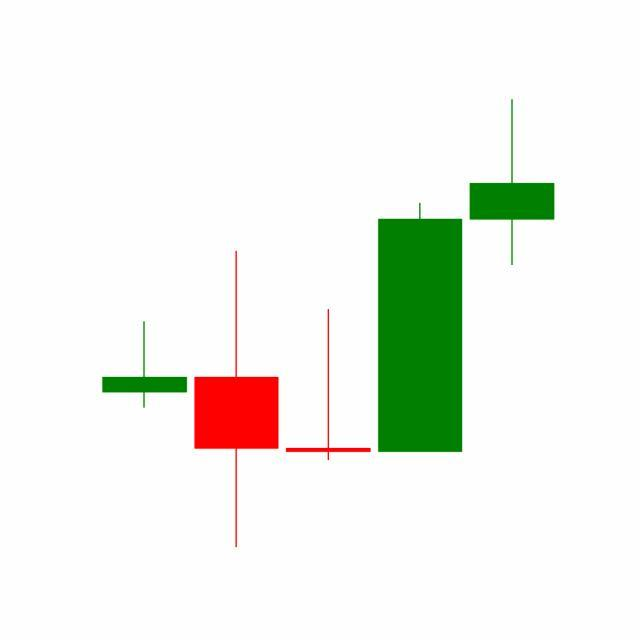Spinning Top: (466, 98, 559, 268)
